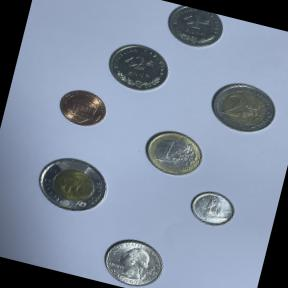1 Euro: (136, 121, 211, 183)
2 Euro: (202, 73, 285, 141)
Canda-10cent-: (182, 184, 243, 233)
Canda-2Dollar-: (29, 147, 116, 221)
Croatia-2Kune-: (100, 36, 177, 100)
US-1cent-: (52, 82, 114, 133)
US-25cent-: (95, 229, 173, 288)
